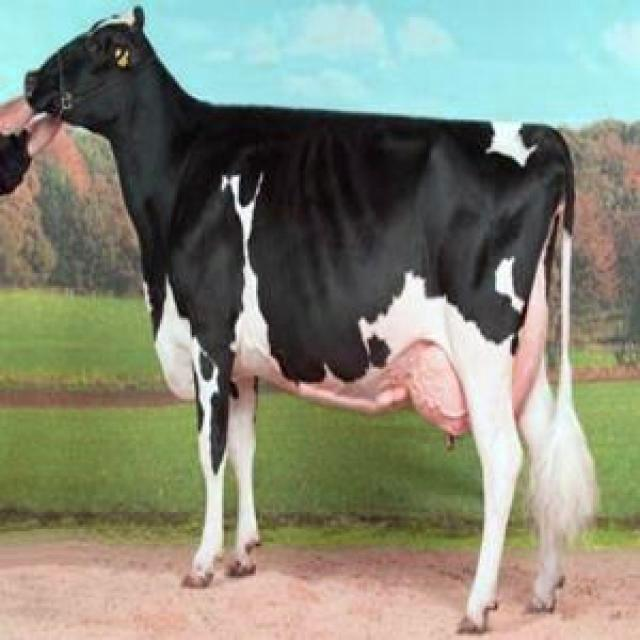cow: (26, 8, 594, 625)
